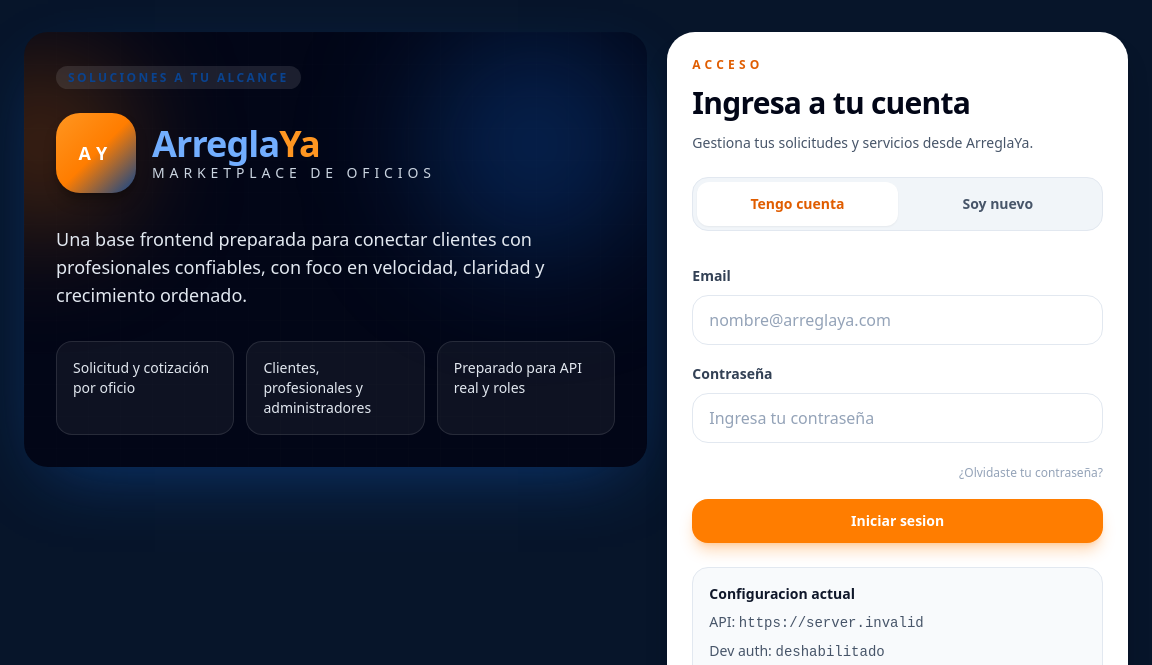
Test: LoginPage › valida email y contraseña antes de enviar
Step 1. Click the button "Iniciar sesion" → (898, 521), box [692,499,1103,543]
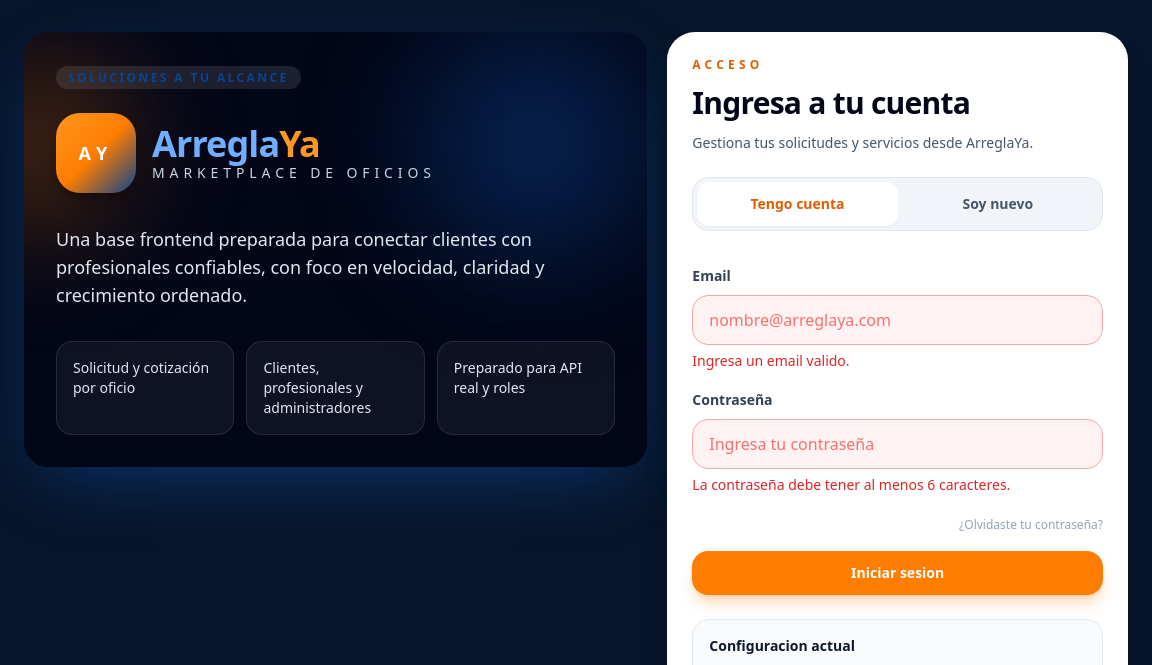
Expected: the text "Ingresa un email valido." is shown, [692,351,850,370]
Expected: the text "La contraseña debe tener al menos 6 caracteres." is shown, [692,475,1010,494]
